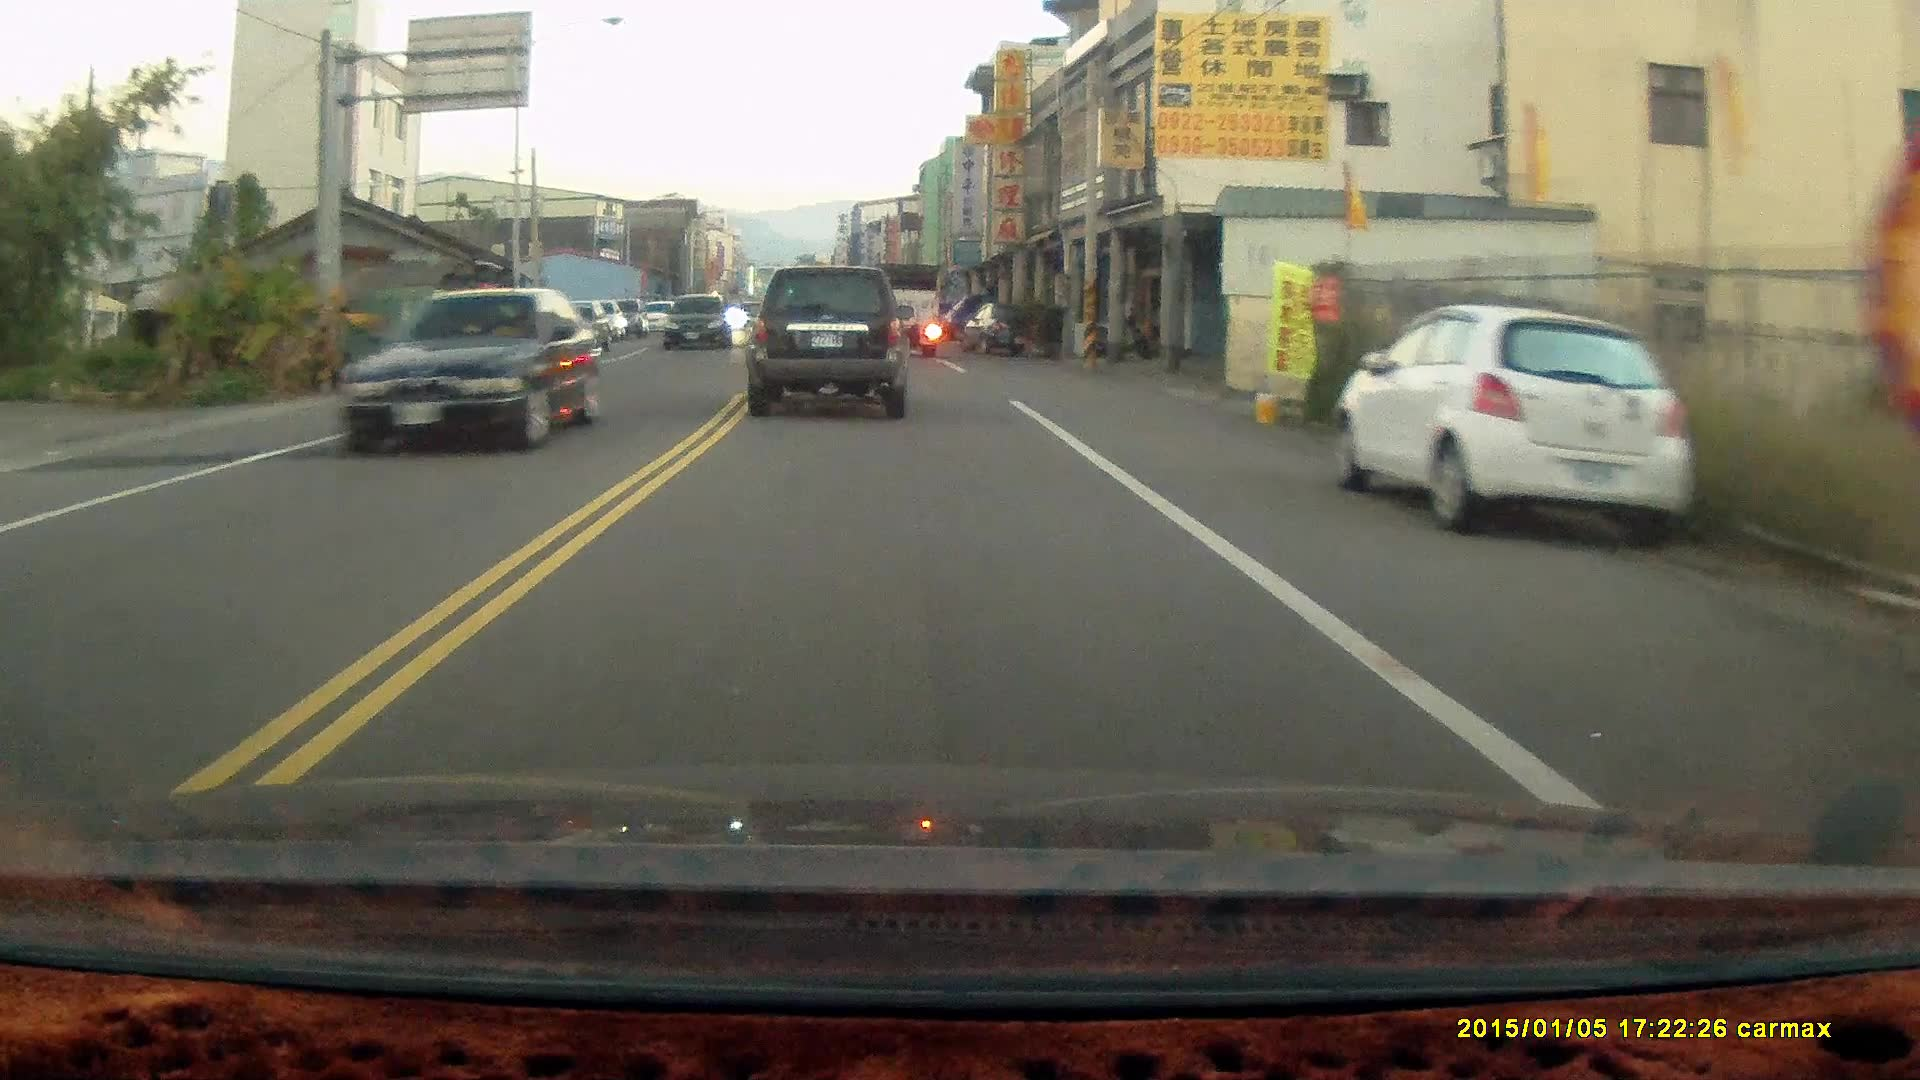vehicle: (1336, 303, 1688, 541), (335, 284, 605, 456), (744, 265, 918, 421), (869, 260, 945, 359), (659, 291, 736, 351)
